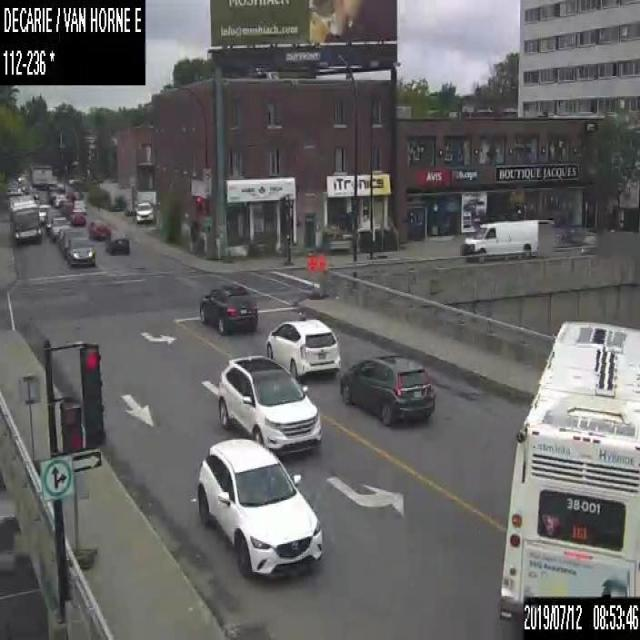bus: (498, 318, 639, 618), (9, 194, 41, 243)
construction: (67, 469, 95, 569), (16, 373, 42, 475), (316, 254, 328, 298), (306, 255, 316, 298)
vehicle: (194, 437, 324, 576), (217, 354, 322, 459), (339, 353, 434, 425), (266, 311, 339, 380), (462, 217, 537, 262), (198, 281, 257, 335), (65, 235, 95, 266), (104, 229, 130, 255), (60, 228, 83, 255), (50, 215, 70, 242), (88, 218, 110, 242), (44, 208, 60, 234), (134, 201, 152, 224), (56, 226, 73, 248), (37, 203, 51, 224), (69, 210, 85, 225), (72, 199, 87, 213), (59, 198, 72, 214), (52, 193, 65, 207)
